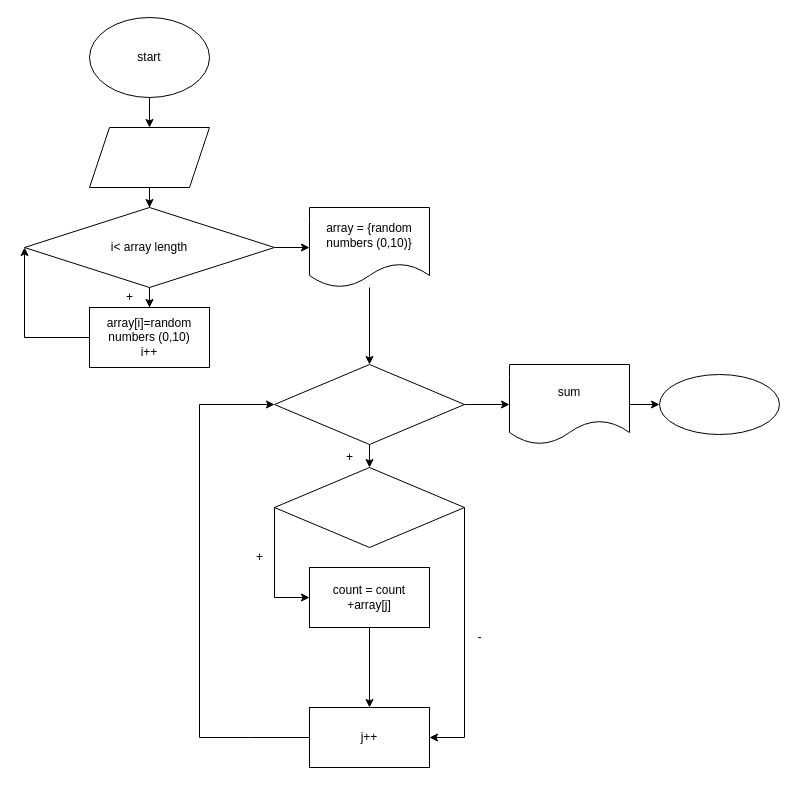
The diagram is 797 pixels wide and 785 high, and some of its shapes have lost their labels. The shapes that lost their labels are listed below. From the top down, each one's centre as x and y in pixels, then its label:
At [149,157]: "i=0 j=0 count =0 array".
At [369,404]: "j< array Length".
At [719,404]: "end".
At [369,507]: "j%2==1".
